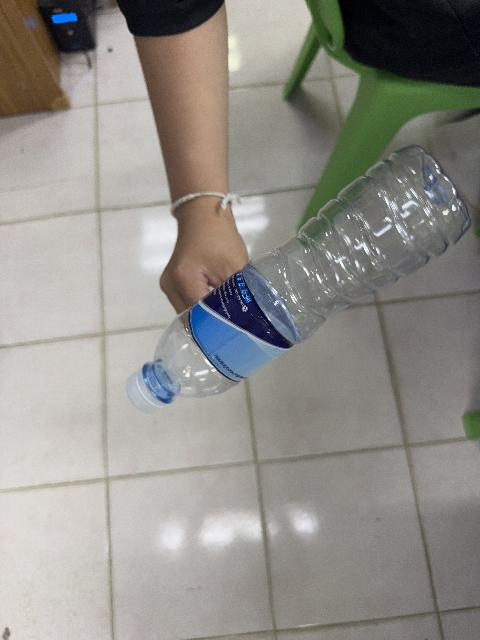bottle: (127, 147, 470, 411)
